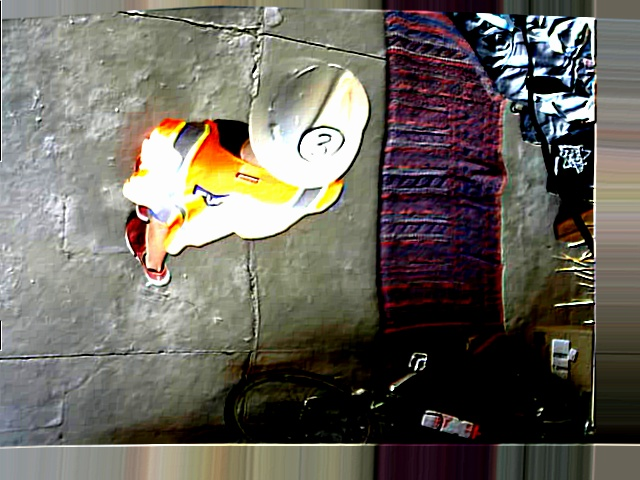three: (298, 126, 346, 164)
